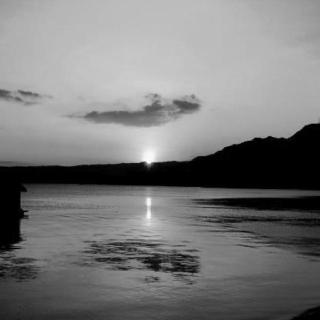other: (140, 145, 159, 167)
